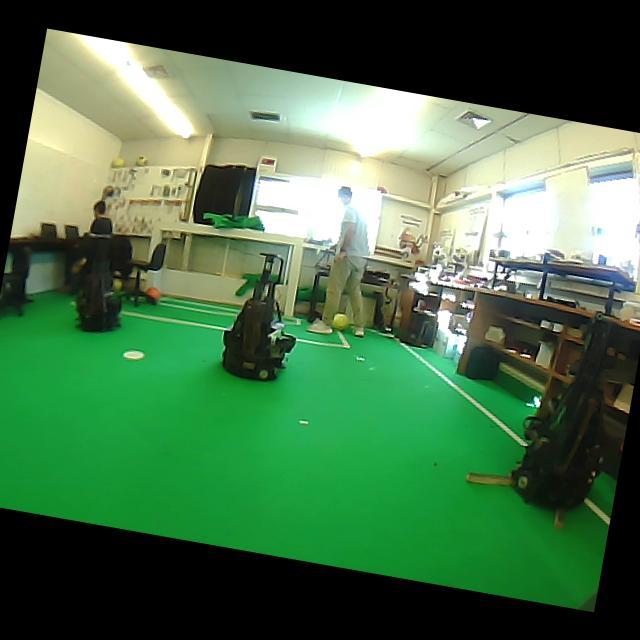ball: (332, 313, 349, 330), (145, 286, 160, 304), (110, 156, 125, 167), (111, 277, 122, 291), (136, 156, 147, 166)
goal: (283, 242, 304, 317)
robot: (511, 316, 611, 509), (222, 253, 295, 379), (76, 260, 122, 331)
